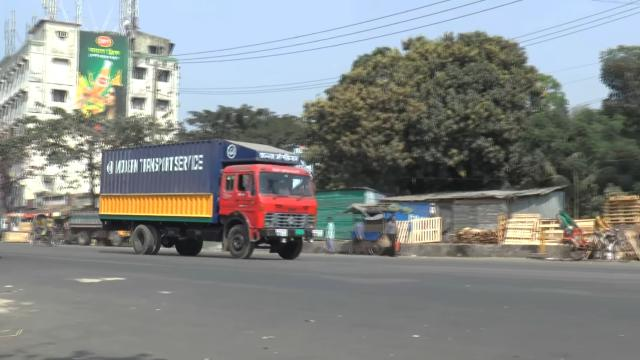truck: (97, 135, 323, 259)
